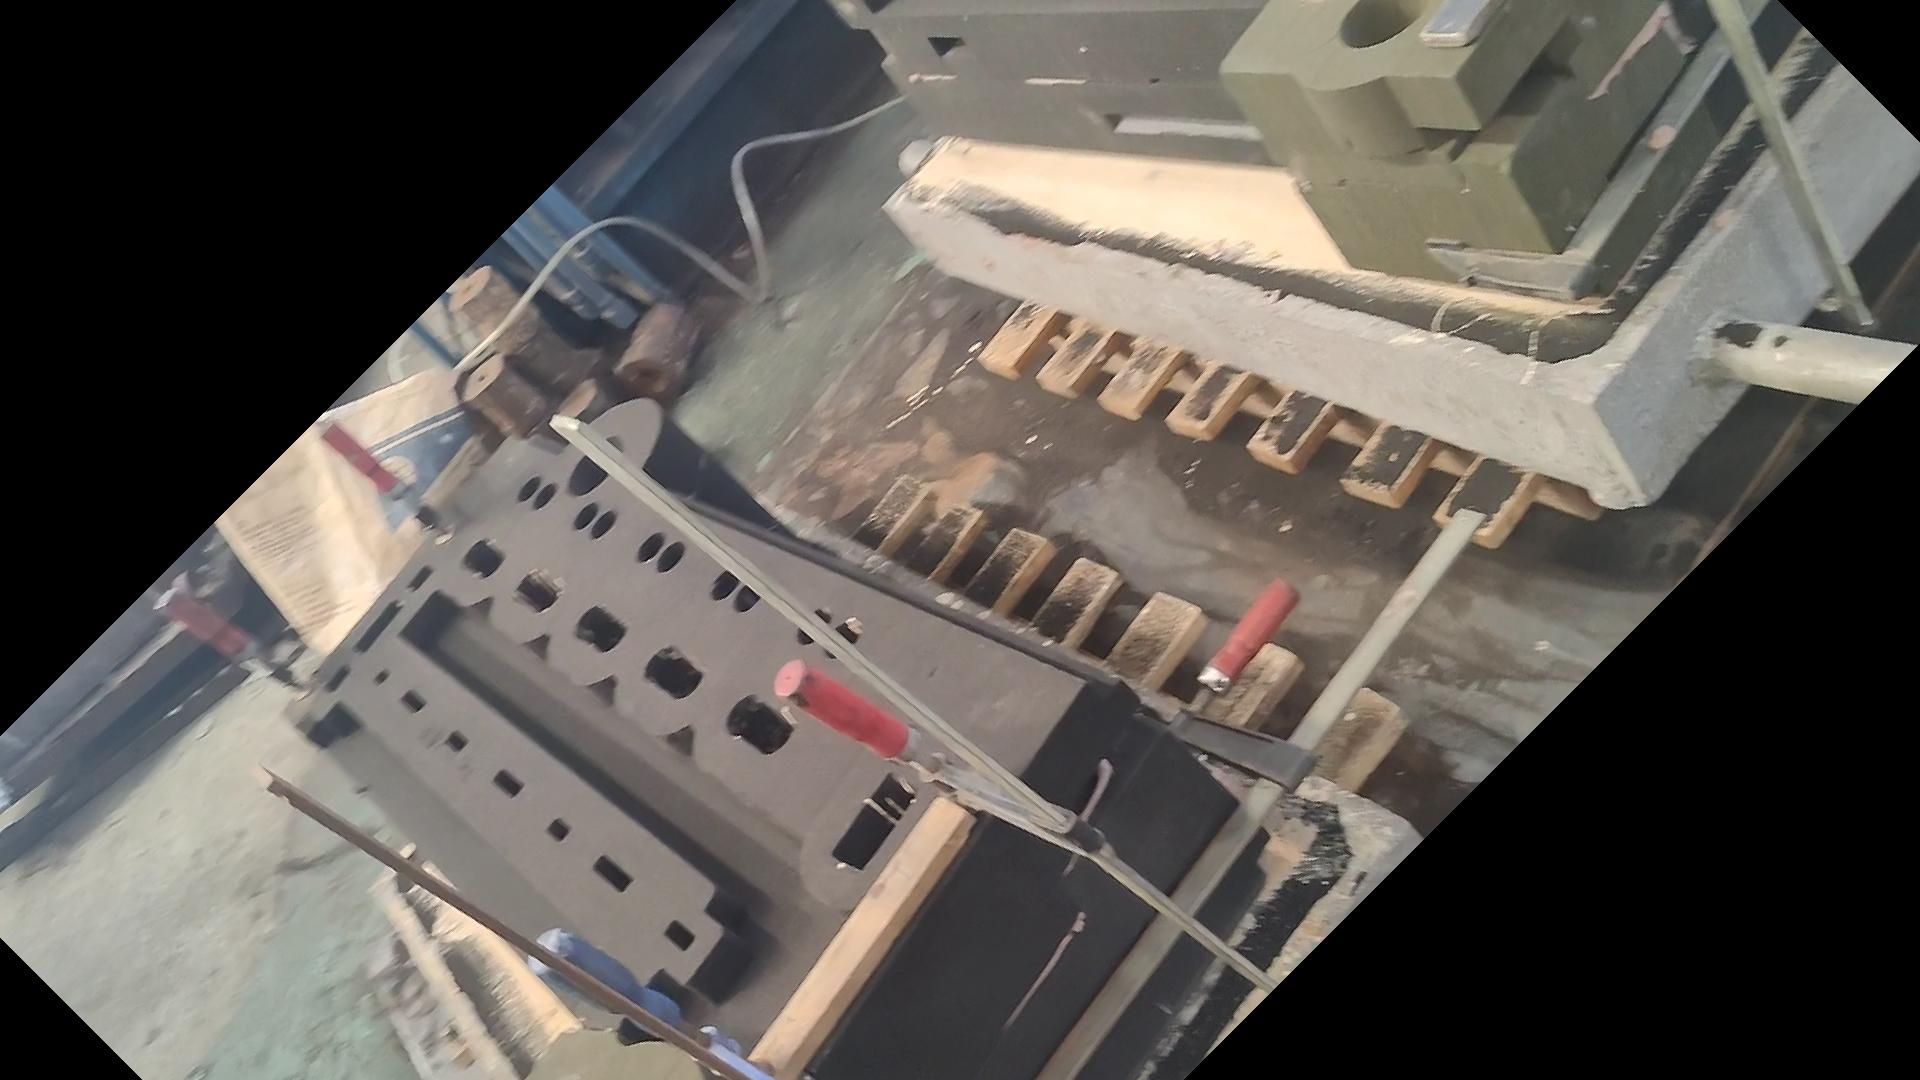pouring hole: (1340, 1, 1429, 47), (566, 433, 621, 496)
